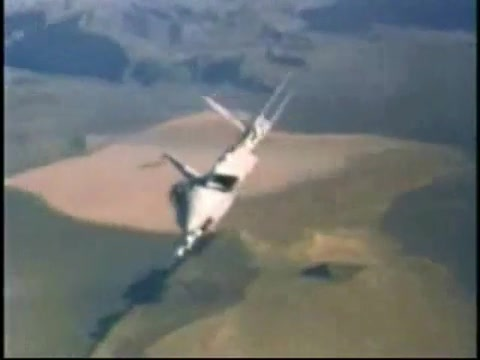aeroplane: (141, 73, 296, 258)
